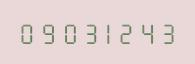four: (137, 20, 156, 44)
nine: (37, 20, 56, 44)
one: (97, 20, 116, 44)
three: (77, 20, 96, 44), (157, 20, 176, 44)
two: (117, 20, 136, 44)
zero: (17, 20, 36, 44), (57, 20, 76, 44)
